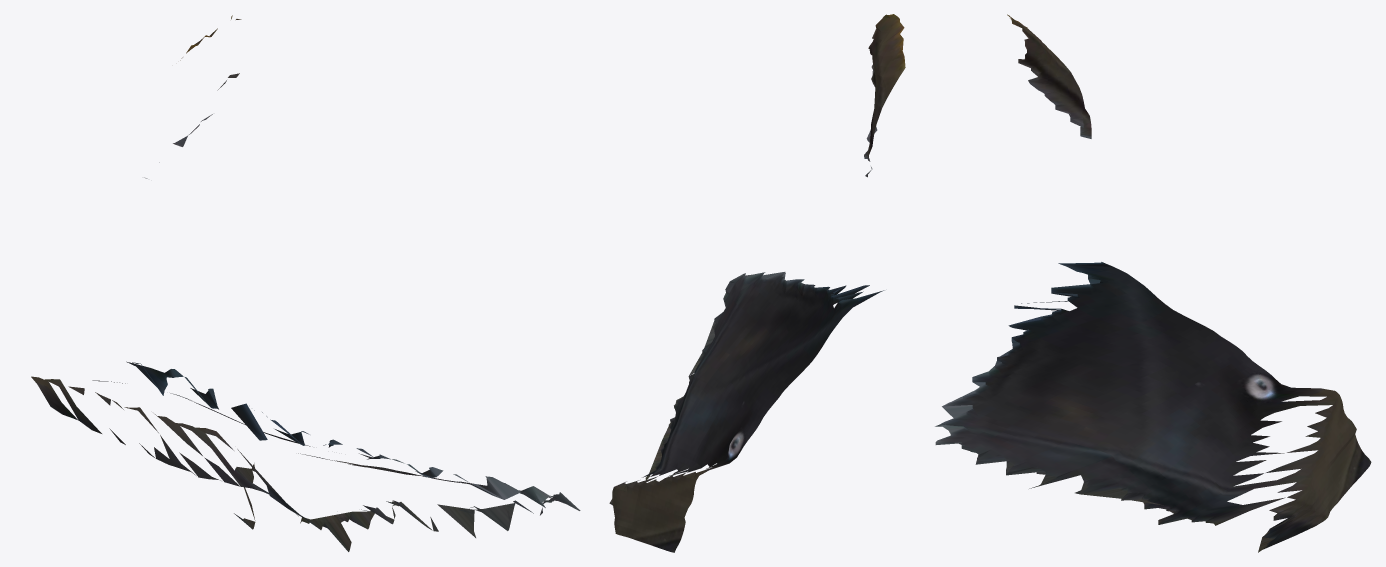
Rendered from observed-surface.glb.
3 views of the same model, side by side, from view 1: azimuth 30°, elevation 25°; view 2: azimuth 150°, elevation 25°; view 3: azimuth 270°, elevation 25° (orthographic). The views are drawn at different scales.
Visible parts, largest first — view 1: geometry_0; view 2: geometry_0; view 3: geometry_0.
Part boxes in pixels (x1,y1,x2,y2): geometry_0: [31, 15, 580, 551]; geometry_0: [609, 14, 905, 552]; geometry_0: [935, 14, 1371, 552].
Bounding box in the file's own units: 0.3817 × 0.7873 × 0.6621.
Materials: 1 (1 with a texture image).
